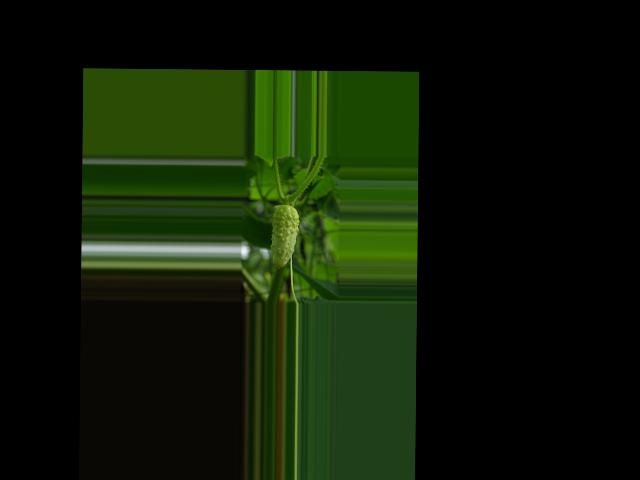cucumber: (271, 204, 299, 269)
